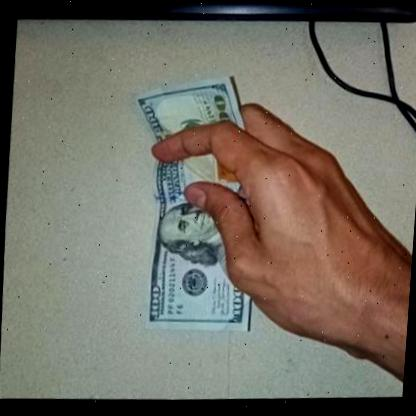one_hundred-front: (106, 67, 277, 349)
